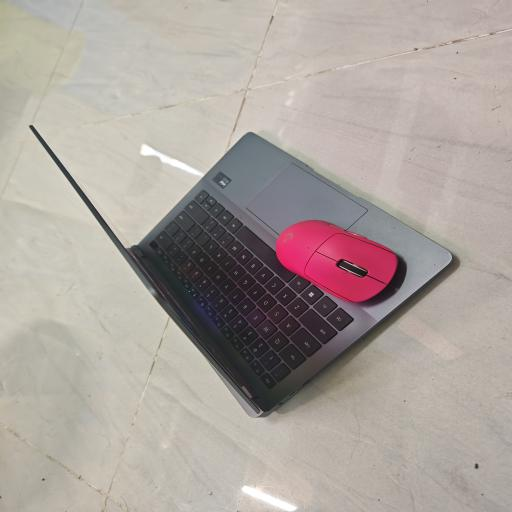laptop: (30, 126, 452, 417)
mouse: (276, 220, 397, 302)
